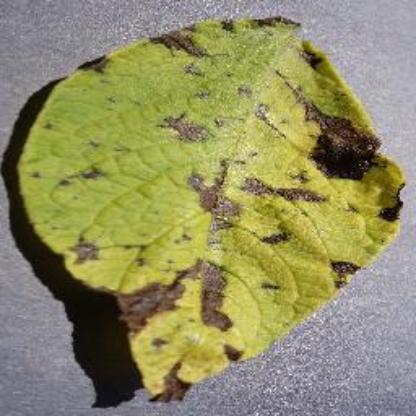Early-Blight: (6, 11, 416, 406)
